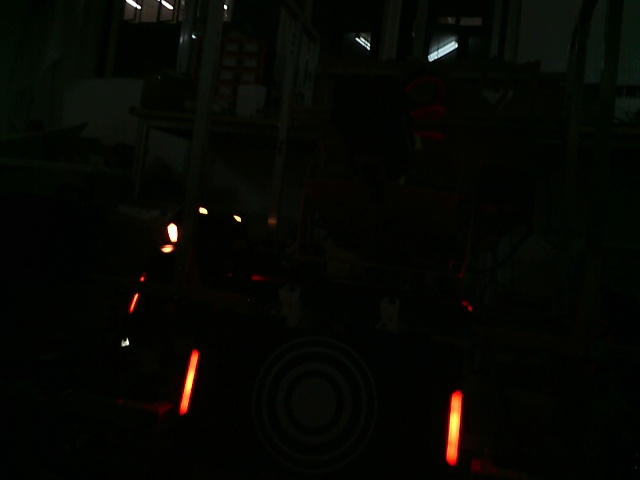lamp: (179, 346, 202, 416), (445, 388, 462, 466)
